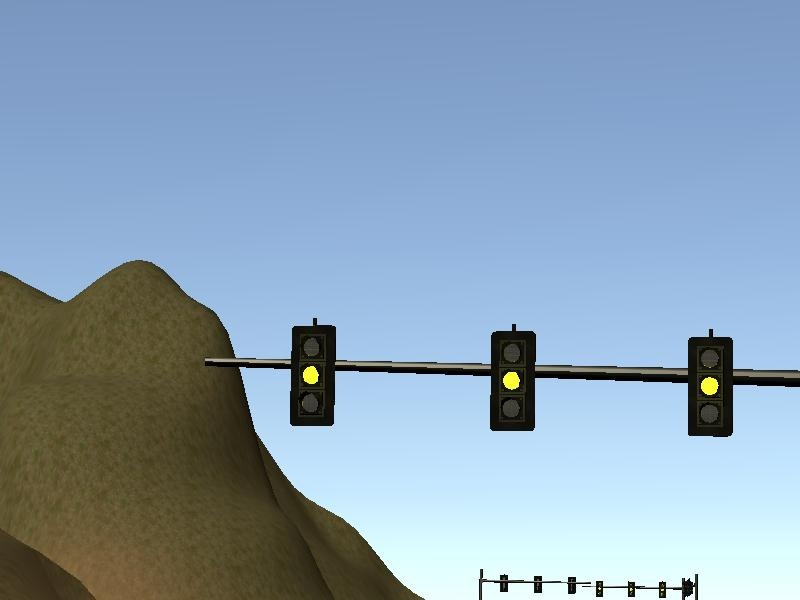YELLOW: (286, 320, 339, 427), (486, 325, 539, 432), (685, 333, 738, 440)
